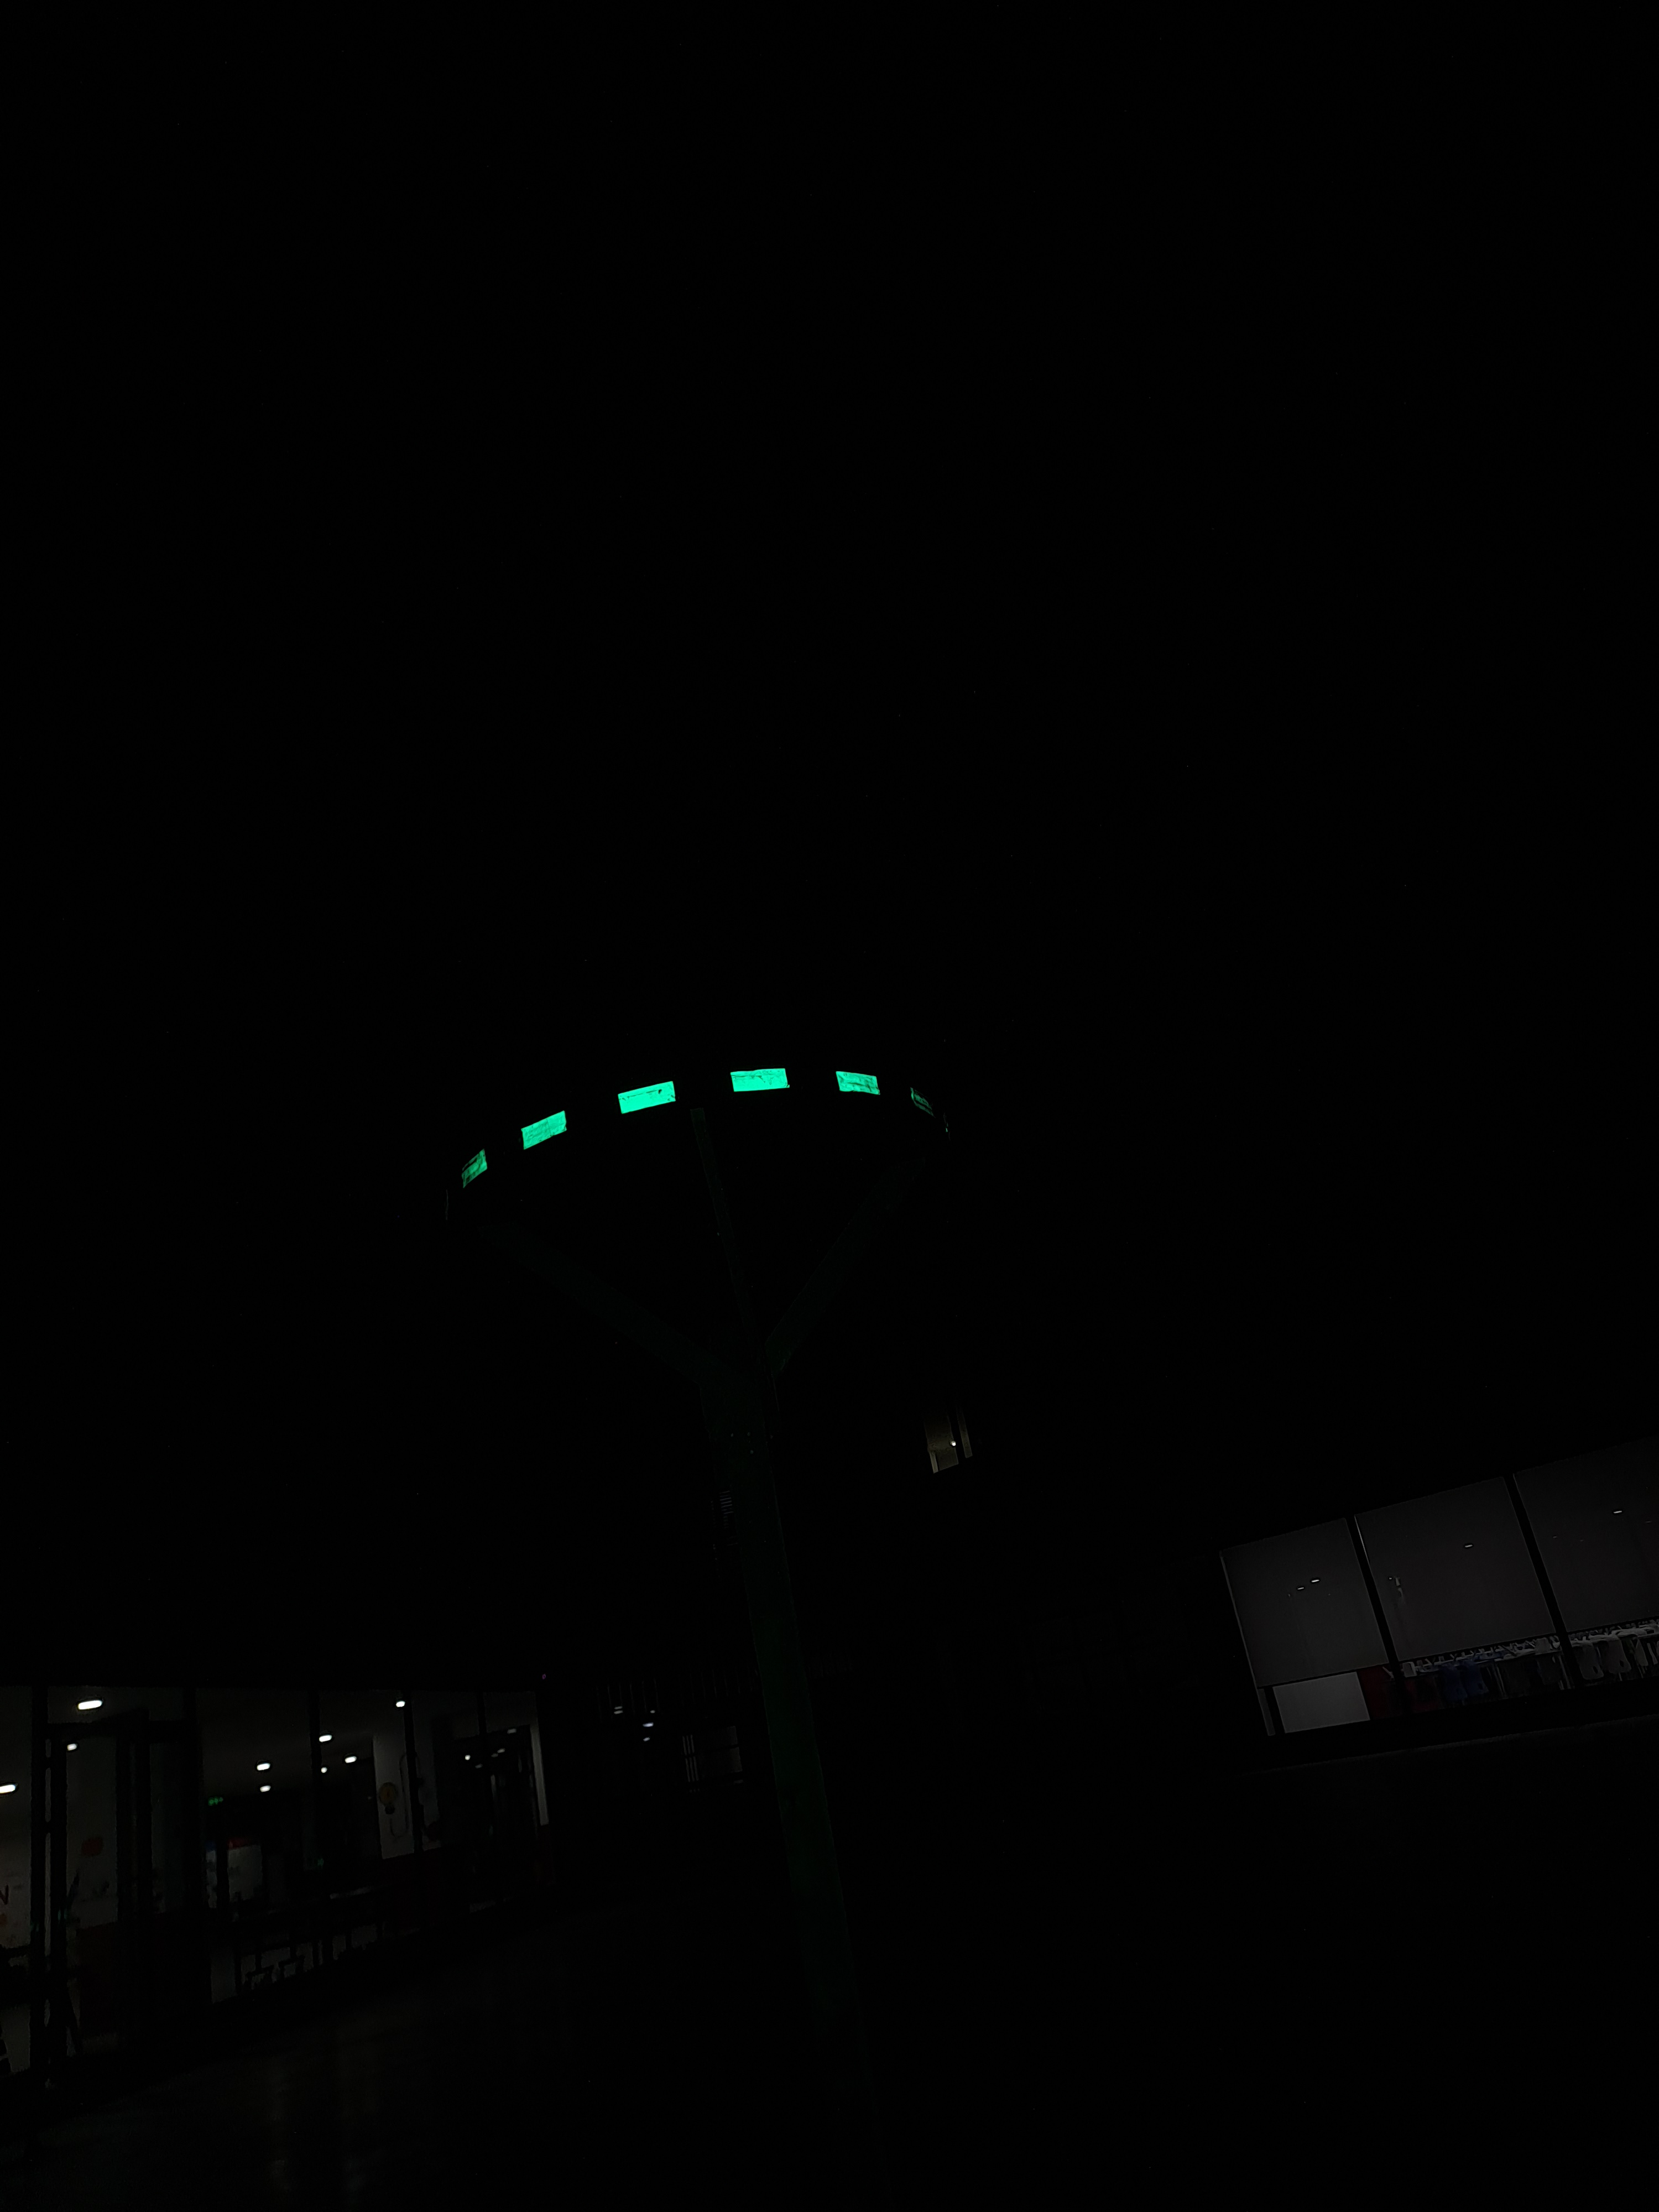hoop: (439, 1066, 884, 1191)
